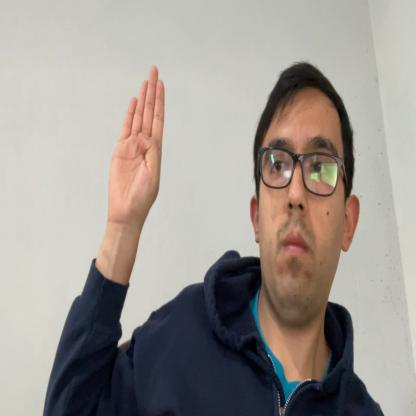B: (109, 65, 165, 216)
